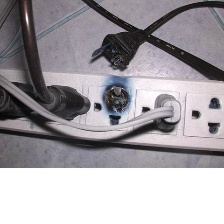three_eye_plug: (0, 61, 224, 161)
